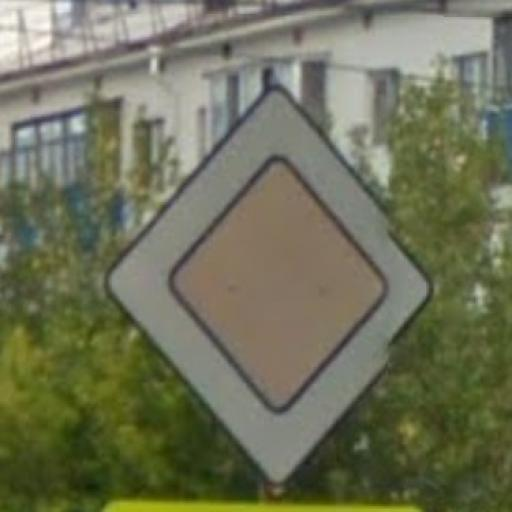traffic_sign: (102, 83, 437, 491)
